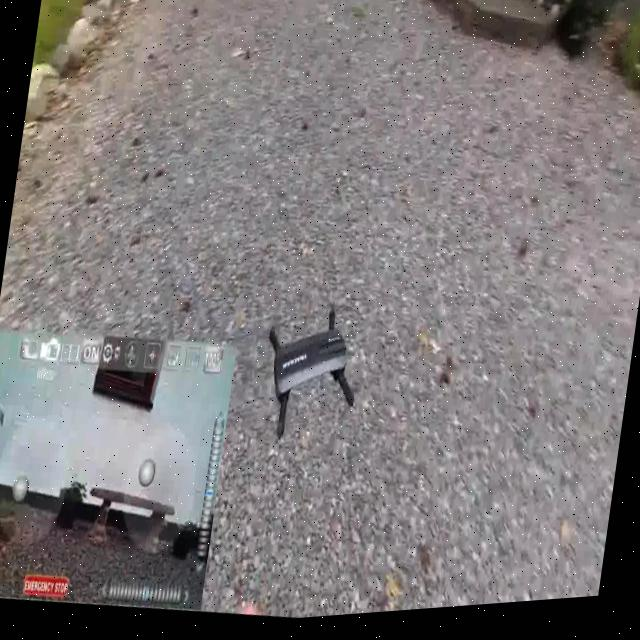drone: (214, 266, 393, 468)
